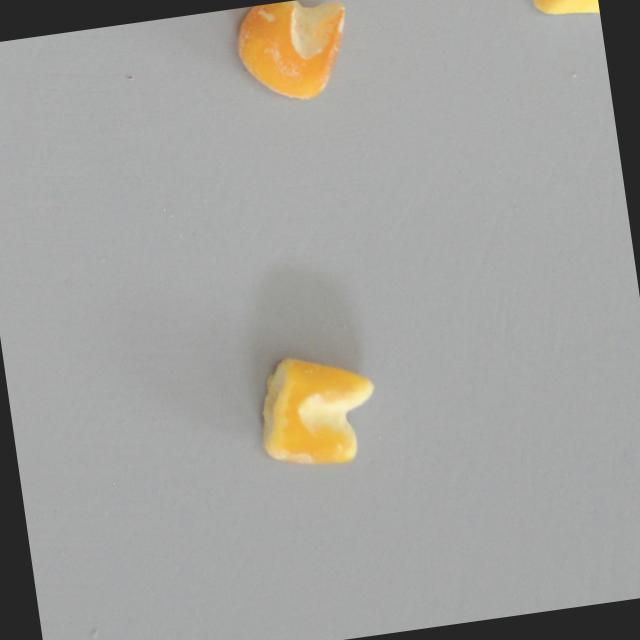no_canjicado: (529, 0, 600, 24)
pelicula: (251, 342, 386, 473), (230, 0, 358, 109)
